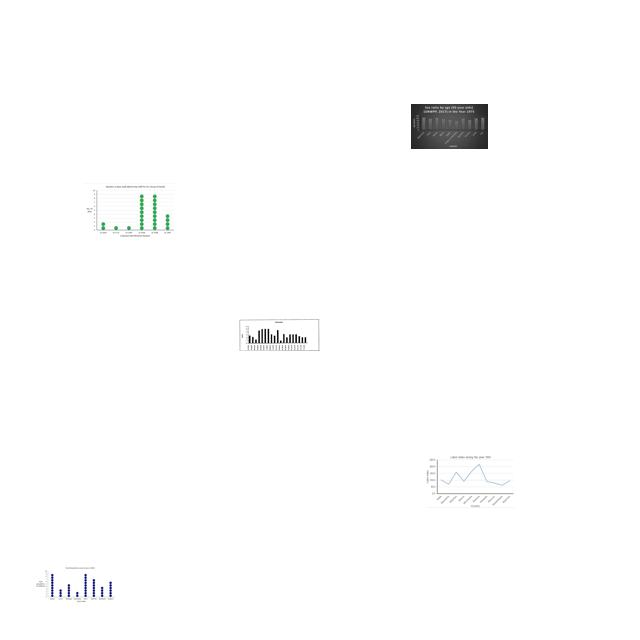Graph: (84, 183, 175, 239), (426, 455, 515, 508), (411, 104, 488, 149), (36, 567, 115, 603), (239, 319, 320, 351)
